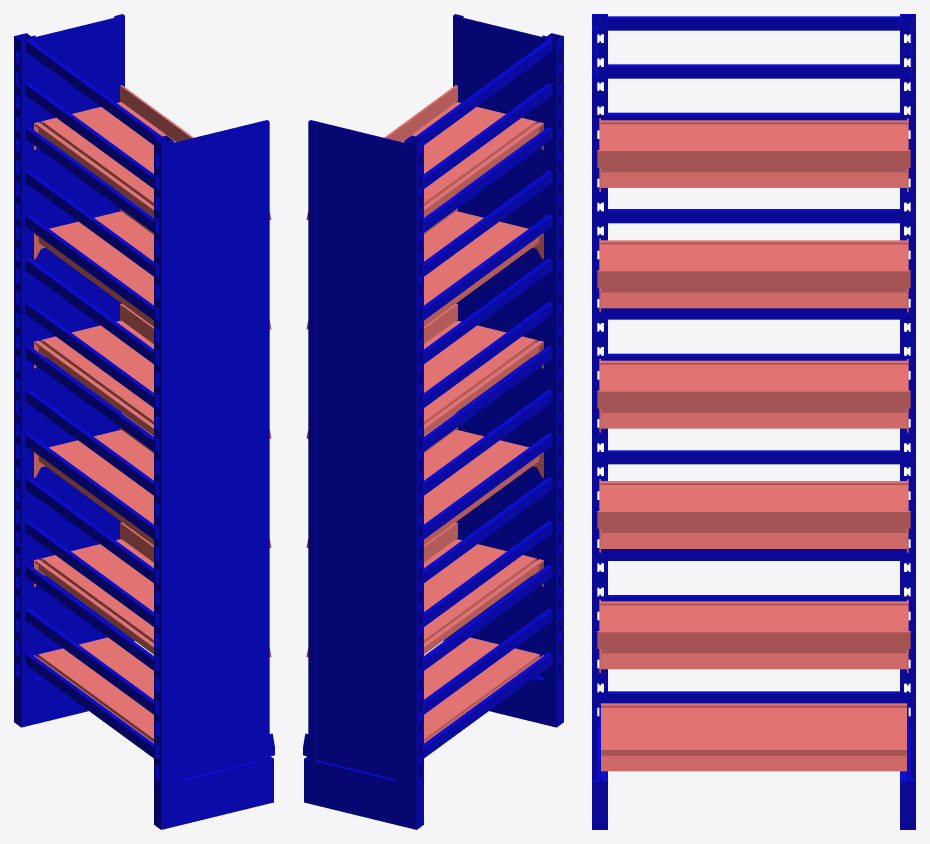
The model's file is PARTA001.glb.
3 views of the same model, side by side, from view 1: azimuth 30°, elevation 25°; view 2: azimuth 150°, elevation 25°; view 3: azimuth 270°, elevation 25° (orthographic). The views are drawn at different scales.
Parts seen in each view (by area): view 1: 3DGeom-1, 3DGeom-2; view 2: 3DGeom-1, 3DGeom-2; view 3: 3DGeom-2, 3DGeom-1.
Boxes of the visible parts, box(x1,y1,x2,y2) form: 3DGeom-1: box(14, 14, 274, 829); 3DGeom-2: box(34, 85, 271, 743); 3DGeom-1: box(303, 14, 563, 829); 3DGeom-2: box(306, 85, 543, 743); 3DGeom-2: box(597, 118, 910, 771); 3DGeom-1: box(592, 14, 915, 829).
Size of the model in its own units: 0.28 by 1.57 by 0.61.
